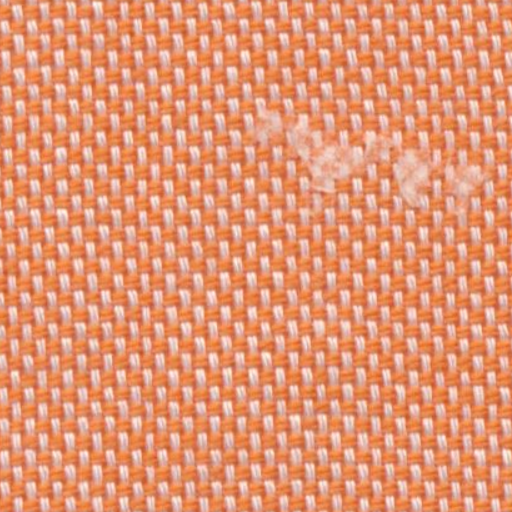DuanSha: (218, 90, 492, 222)
